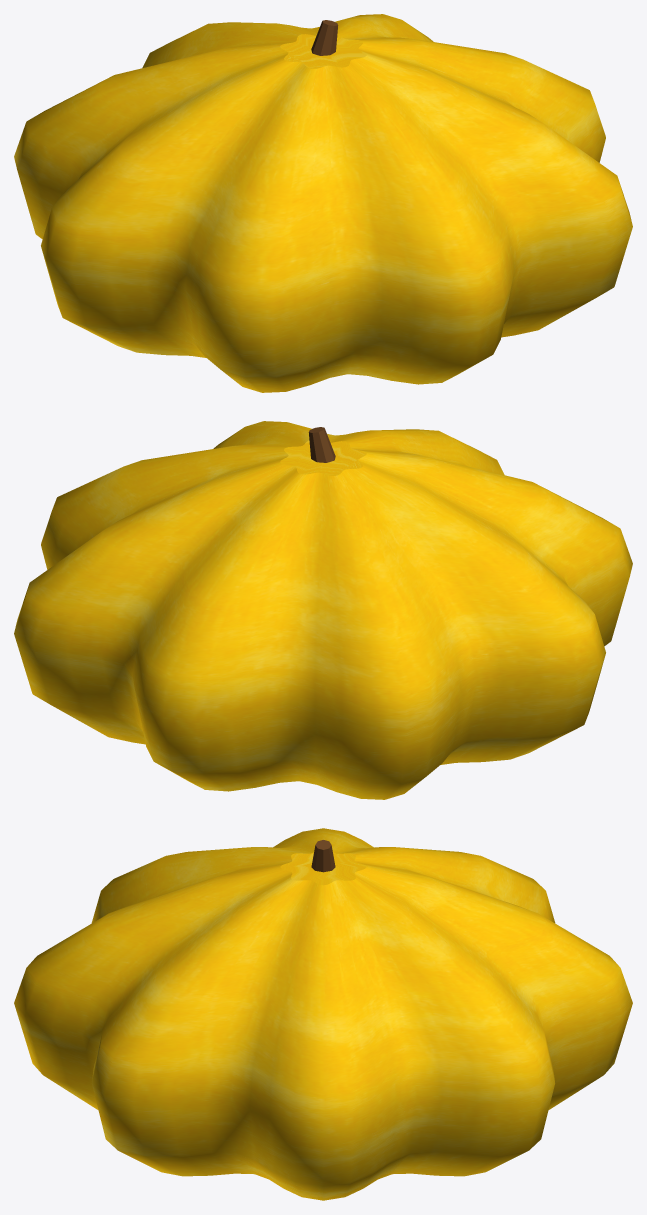
The model's file is yellow_squash-CzcJ5FfJ.glb.
3 renders of one model, top to bottom at view 1: azimuth 30°, elevation 25°; view 2: azimuth 150°, elevation 25°; view 3: azimuth 270°, elevation 25°, orthographic. The views are drawn at different scales.
Parts seen in each view (by area): view 1: FLC_yellow_squash; view 2: FLC_yellow_squash; view 3: FLC_yellow_squash.
Boxes of the visible parts, left/top/right/bottom form: FLC_yellow_squash: left=14, top=14, right=632, bottom=392; FLC_yellow_squash: left=14, top=421, right=632, bottom=799; FLC_yellow_squash: left=14, top=828, right=632, bottom=1200.
Bounding box in the file's own units: 3.45 × 1.72 × 3.45.
Materials: 2 (1 with a texture image).
